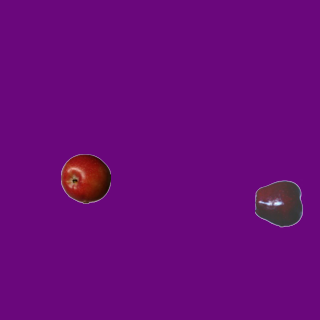Apple Braeburn: (60, 153, 110, 203)
Apple Red Delicious: (254, 178, 304, 228)
